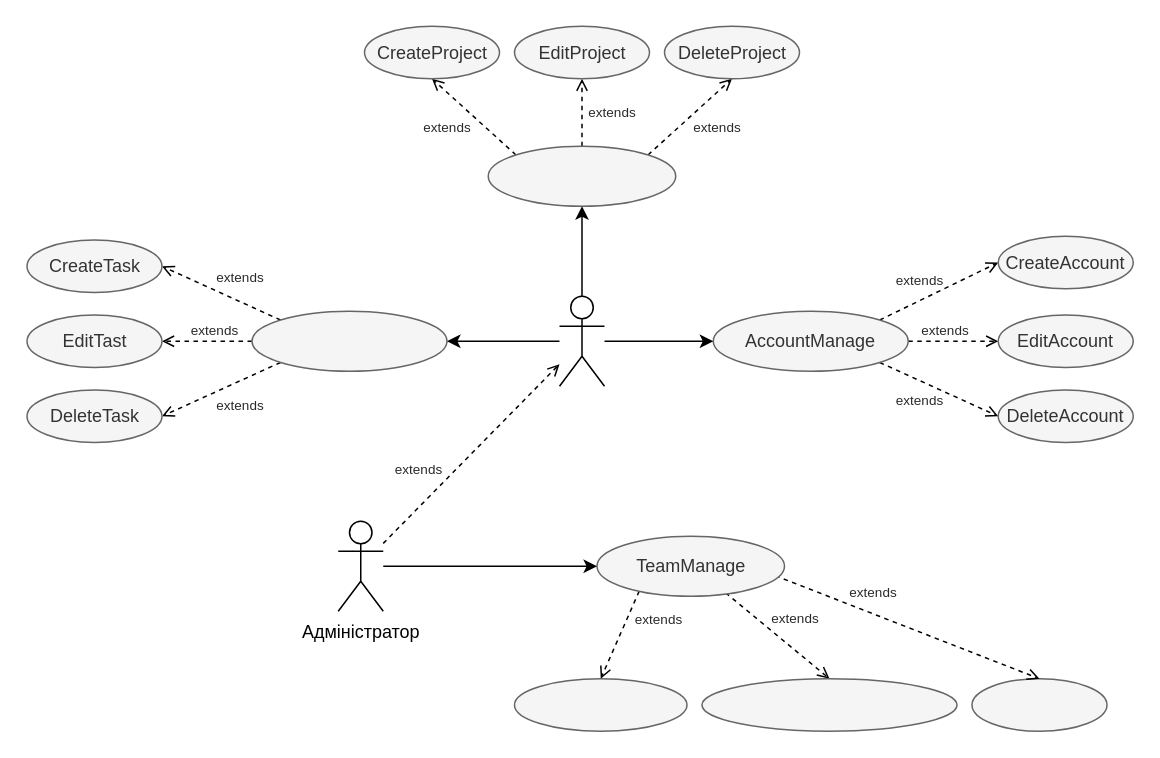
The diagram is 1160 pixels wide and 758 high, and some of its shapes have lost their labels. Here are the shapes that lost their labels. From the top down, the centre of each, then its label:
the point at 581,175: ProjectManage
the point at 348,340: TaskManage
the point at 581,340: Користувач
the point at 600,704: RemoveMembers
the point at 828,704: EditMemberPermissions
the point at 1038,704: AddMembers
